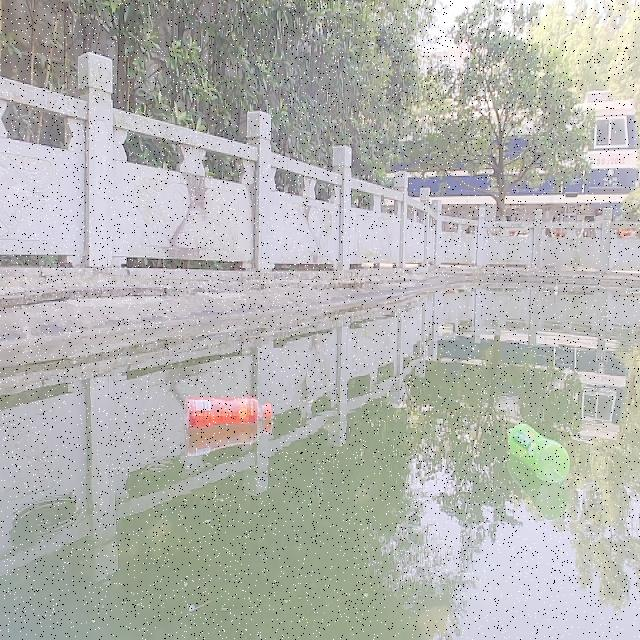Bottle: (505, 421, 571, 484), (184, 394, 274, 429)
